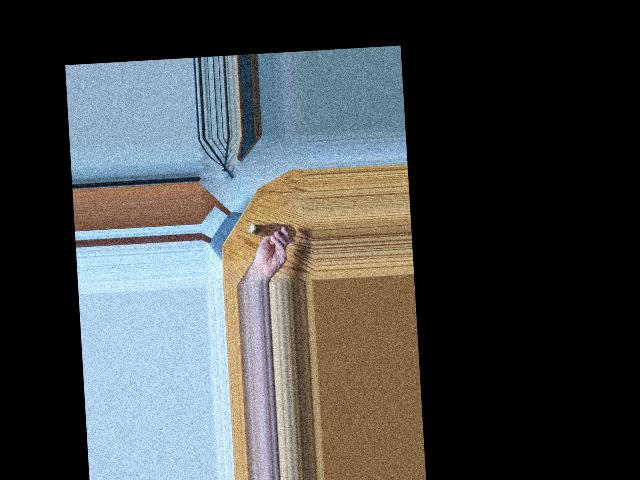sweet_potato: (246, 219, 295, 243)
